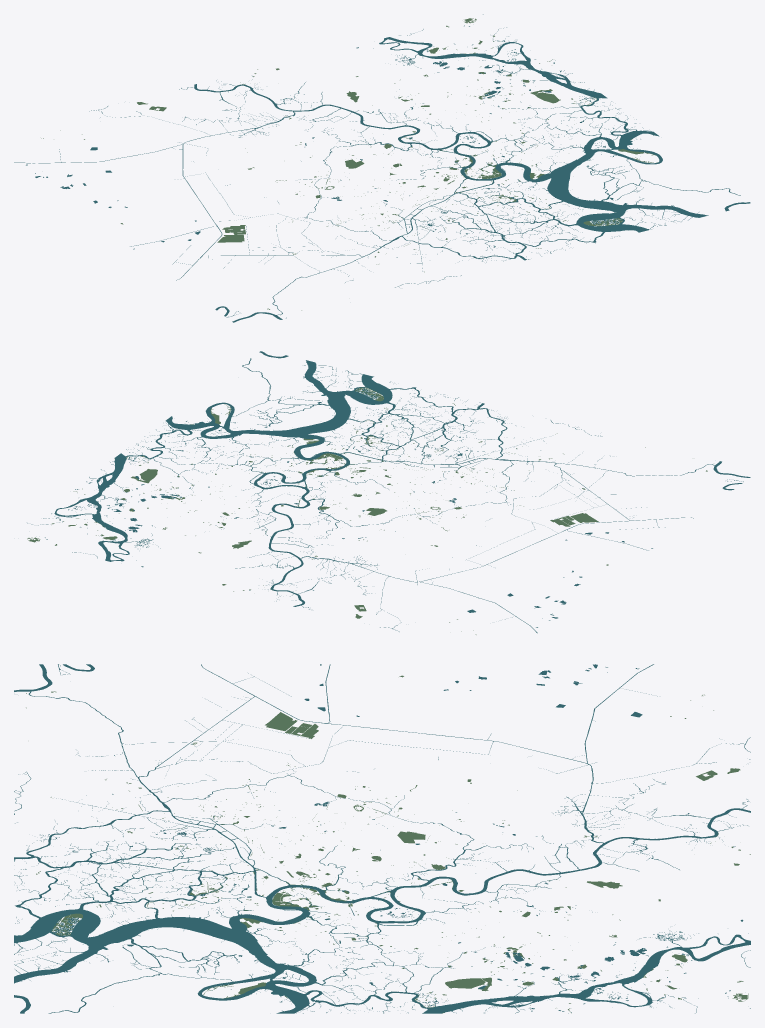
Rendered from overview-base.glb.
3 views of the same model, one above another, from view 1: azimuth 30°, elevation 25°; view 2: azimuth 150°, elevation 25°; view 3: azimuth 270°, elevation 25° (orthographic). The views are drawn at different scales.
Visible parts, largest first — view 1: water, green; view 2: water, green; view 3: water, green.
Part boxes in pixels (<box>): water: <box>14,14,750,322</box>; green: <box>41,18,657,315</box>; water: <box>27,351,750,633</box>; green: <box>27,387,707,634</box>; water: <box>14,664,750,1013</box>; green: <box>26,675,750,1013</box>.
Bounding box in the file's own units: 45696 × 0.13 × 40723.
